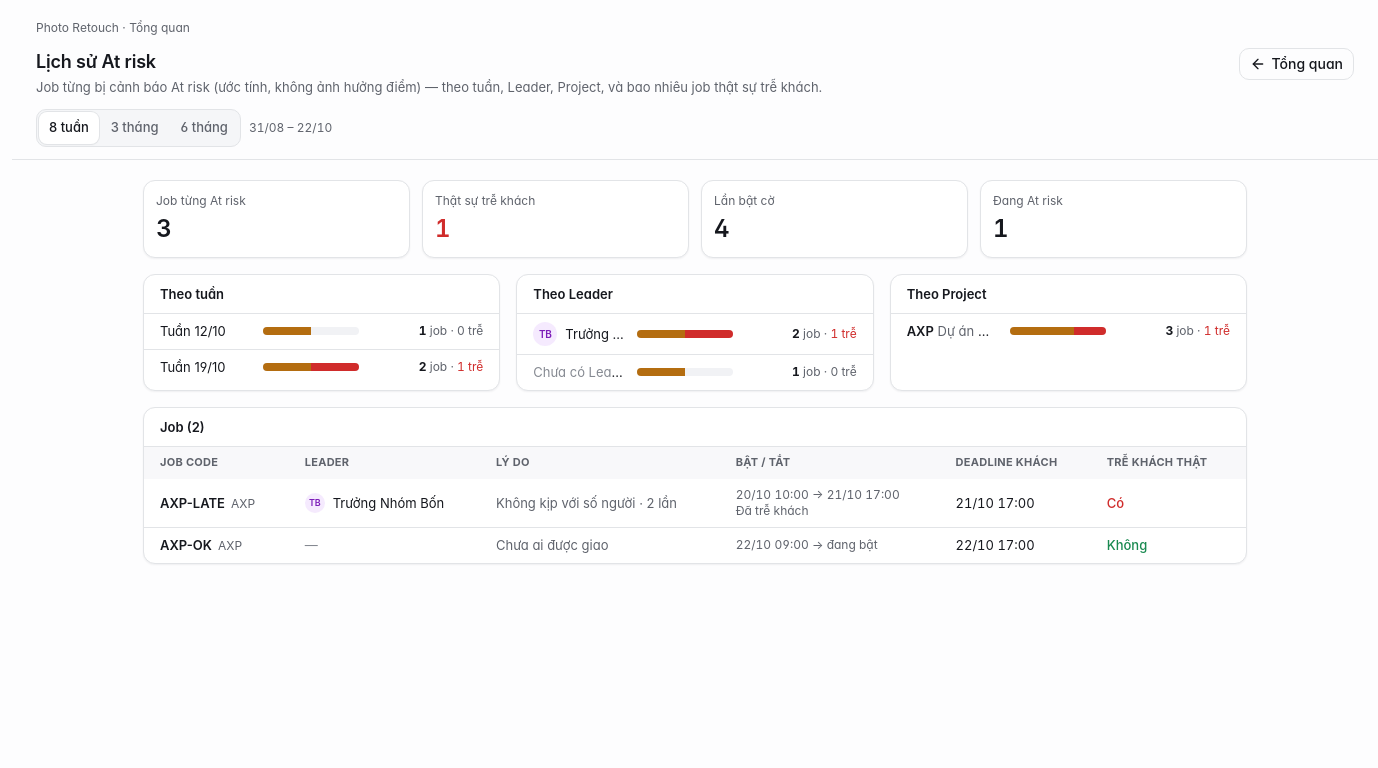
Scenario: /production/at-risk — Lịch sử At risk (PD-080) › a longer range goes to the URL and the API
The image size is (1378, 768).
Expected: the text "Job từng At risk" is shown, [156,193,246,208]
Click the button "3 tháng".
click(135, 128)  # box [101,112,169,144]
(page scrolled)
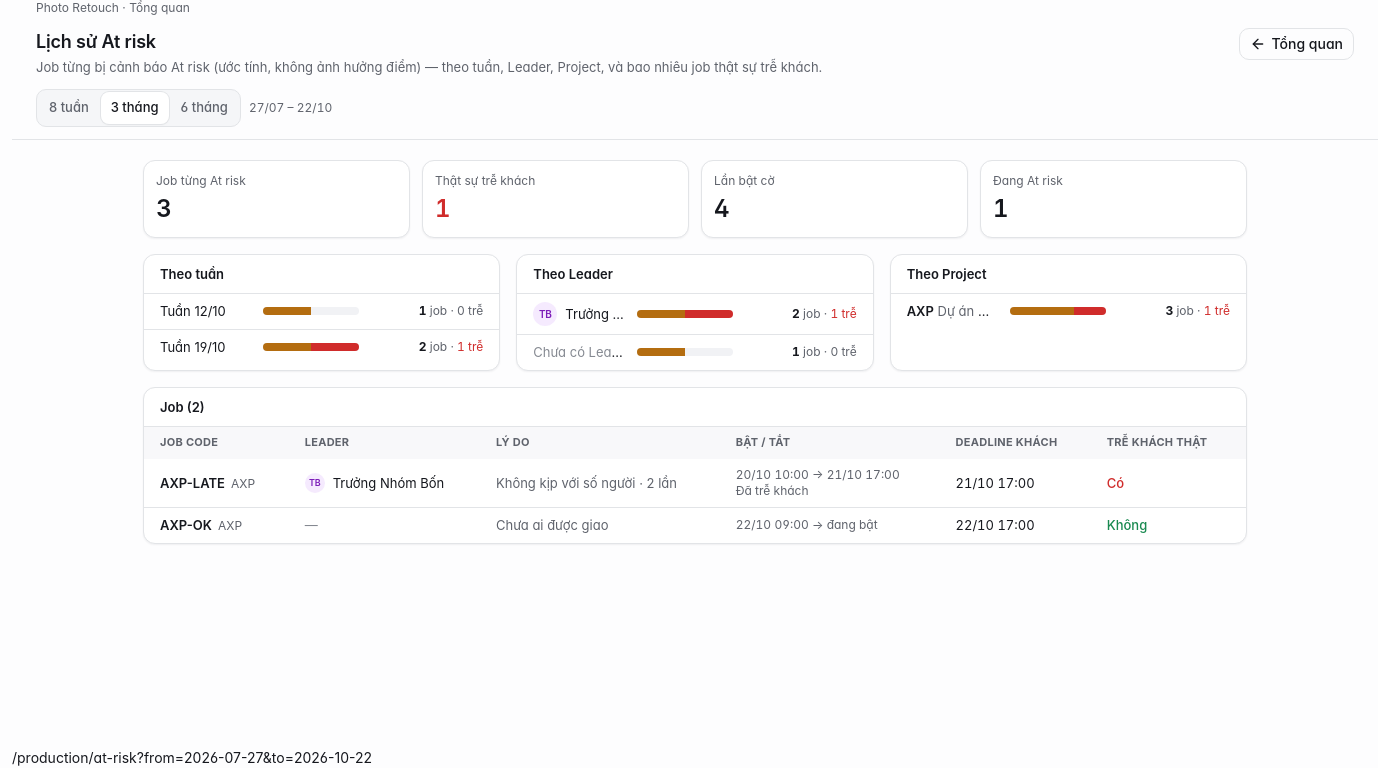
Now the text with test id "location" reads "/production/at-risk?from=2026-07-27&to=2026-10-22", box [12,749,372,766]
